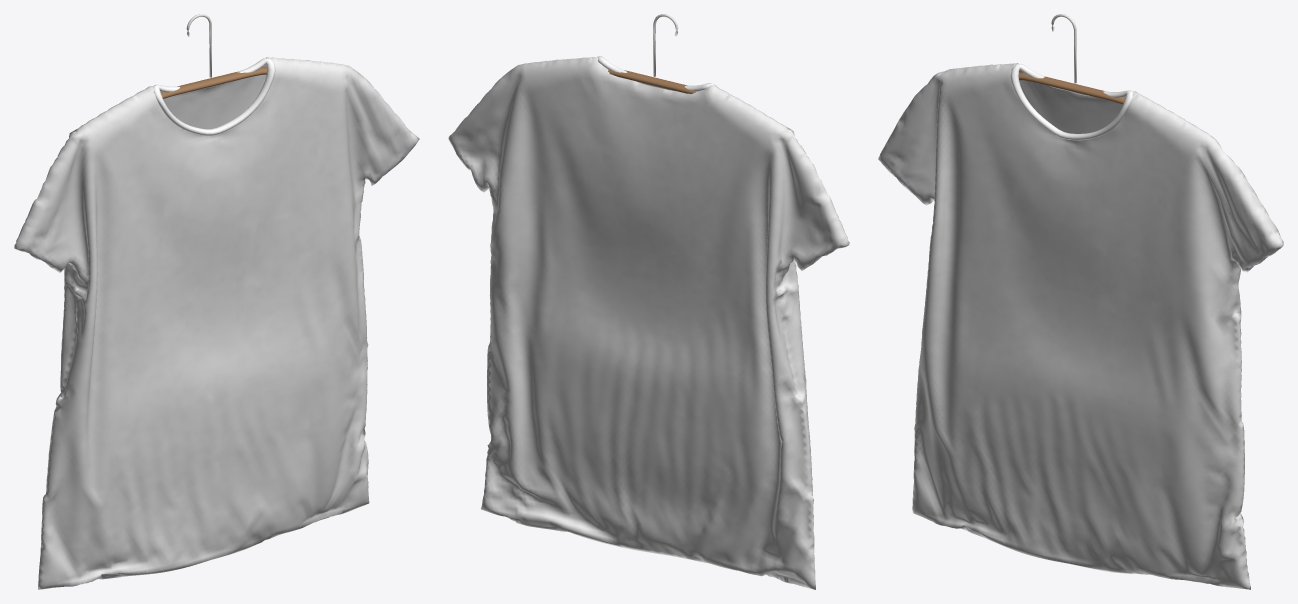
The model's file is half-sleeve-v2.glb.
3 views of the same model, side by side, from view 1: azimuth 30°, elevation 25°; view 2: azimuth 150°, elevation 25°; view 3: azimuth 330°, elevation 25° (orthographic).
Parts seen in each view (by area): view 1: Shirt, Collar, HangerWood; view 2: Shirt, HangerWood; view 3: Shirt, Collar, HangerWood.
Boxes of the visible parts, x1,y1,x2,y2 form: Shirt: [14, 57, 419, 589]; Collar: [153, 58, 275, 135]; HangerWood: [160, 66, 267, 98]; Shirt: [448, 57, 849, 589]; HangerWood: [608, 69, 696, 93]; Shirt: [878, 63, 1283, 589]; Collar: [1010, 64, 1132, 140]; HangerWood: [1018, 72, 1125, 104].
Bounding box in the file's own units: 0.6302 × 0.8152 × 0.0737.
4 materials, 1 textured.
